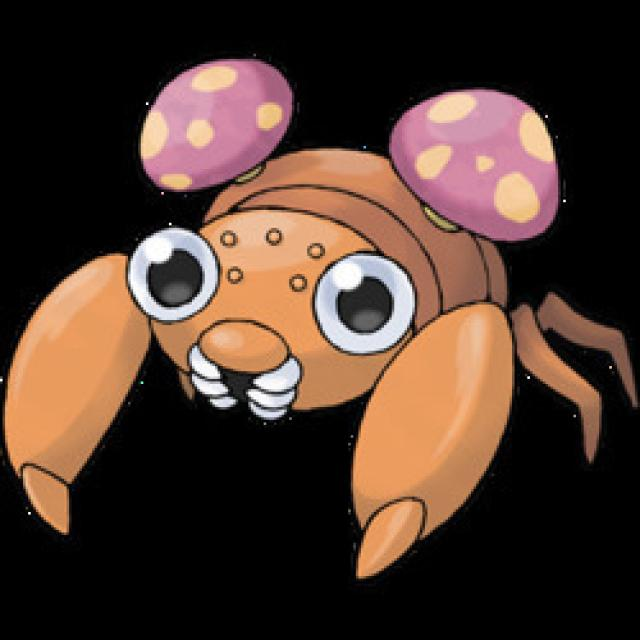Paras: (54, 53, 564, 523)
